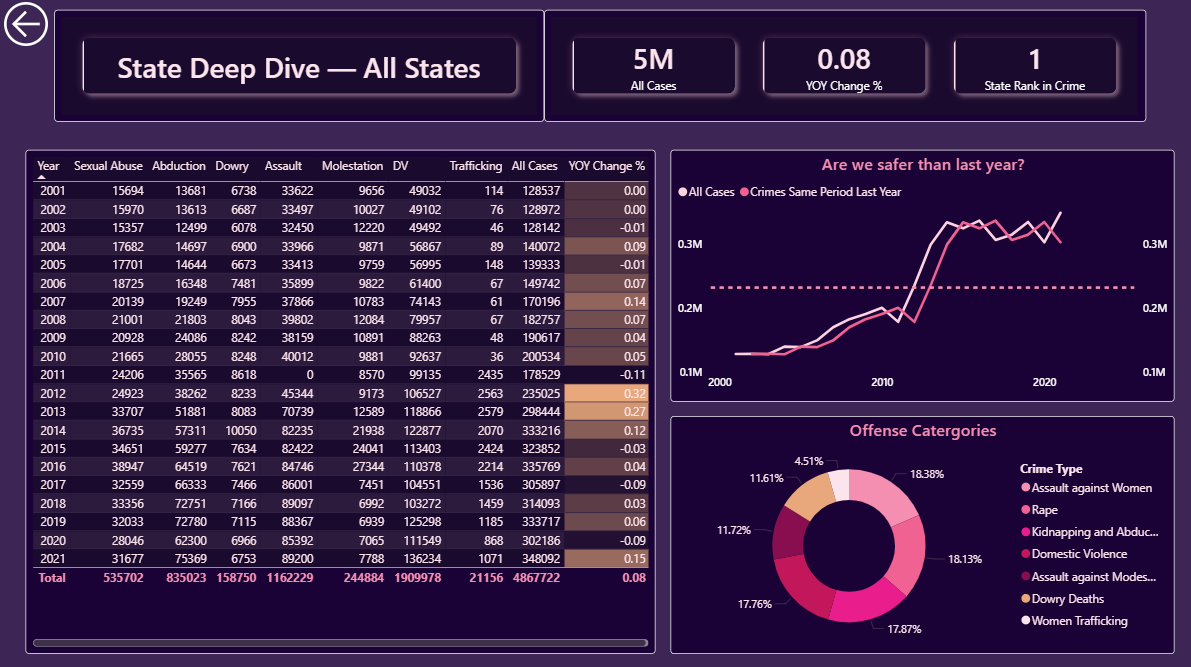

The dashboard page shown, as its layout file describes it:
{"tool":"powerbi","page":{"name":"Deep Dive","canvas":[1366,768],"ordinal":2},"visuals":[{"type":"lineChart","title":"Are we safer than last year?","fields":{"Category":["Date Table.Year"],"Y":["Fact_Crimes.All Cases"],"Y2":["Fact_Crimes.Crimes Same Period Last Year"]},"box":[768,176,576,288],"z":0},{"type":"tableEx","fields":{"Values":["Date Table.Year","Fact_Crimes.Sexual Abuse","Fact_Crimes.Abduction","Fact_Crimes.Dowry","Fact_Crimes.Assault","Fact_Crimes.Molestation","Fact_Crimes.DV","Fact_Crimes.Trafficking","Fact_Crimes.All Cases","Fact_Crimes.YOY Change %"]},"box":[32,176,720,576],"z":1000},{"type":"donutChart","title":"Offense Catergories","fields":{"Category":["Fact_Crimes(Unpivoted).Crime Type"],"Y":["Count(Fact_Crimes(Unpivoted).Crime Count)"]},"box":[768,480,576,272],"z":2000},{"type":"actionButton","box":[0,0,64,64],"z":3000},{"type":"cardVisual","fields":{"Data":["Fact_Crimes.All Cases","Fact_Crimes.YOY Change %","Fact_Crimes.State Rank in Crime"]},"box":[624,16,688,128],"z":4000},{"type":"cardVisual","fields":{"Data":["Fact_Crimes.Dynamic Title"]},"box":[64,16,560,128],"z":5000}]}

Visuals, with their boxes in screenshot pixels (x1, y1, x2, y2), scaled from the page's 1366x768 canvas onto the 1191x667 screenshot:
"Are we safer than last year?" lineChart: BBox(670, 153, 1172, 403)
tableEx - Date Table.Year x Fact_Crimes.Sexual Abuse: BBox(28, 153, 656, 653)
"Offense Catergories" donutChart: BBox(670, 417, 1172, 653)
actionButton: BBox(0, 0, 56, 56)
cardVisual - Fact_Crimes.All Cases x Fact_Crimes.YOY Change %: BBox(544, 14, 1144, 125)
cardVisual - Fact_Crimes.Dynamic Title: BBox(56, 14, 544, 125)
